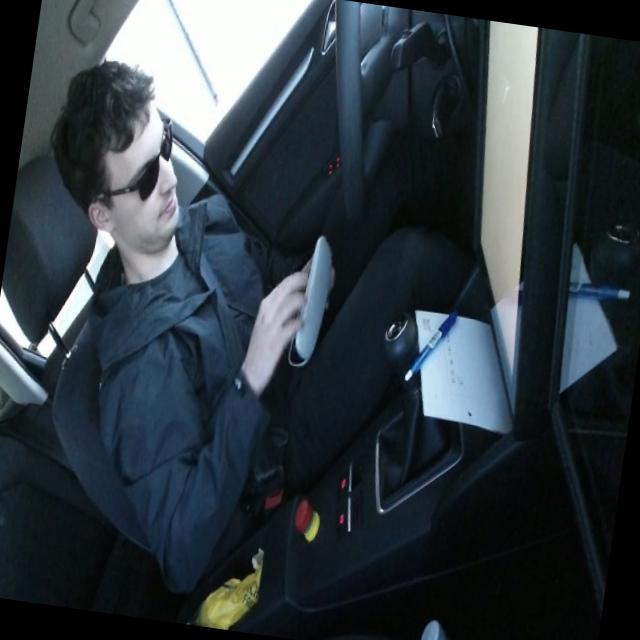pen: (402, 302, 458, 388)
